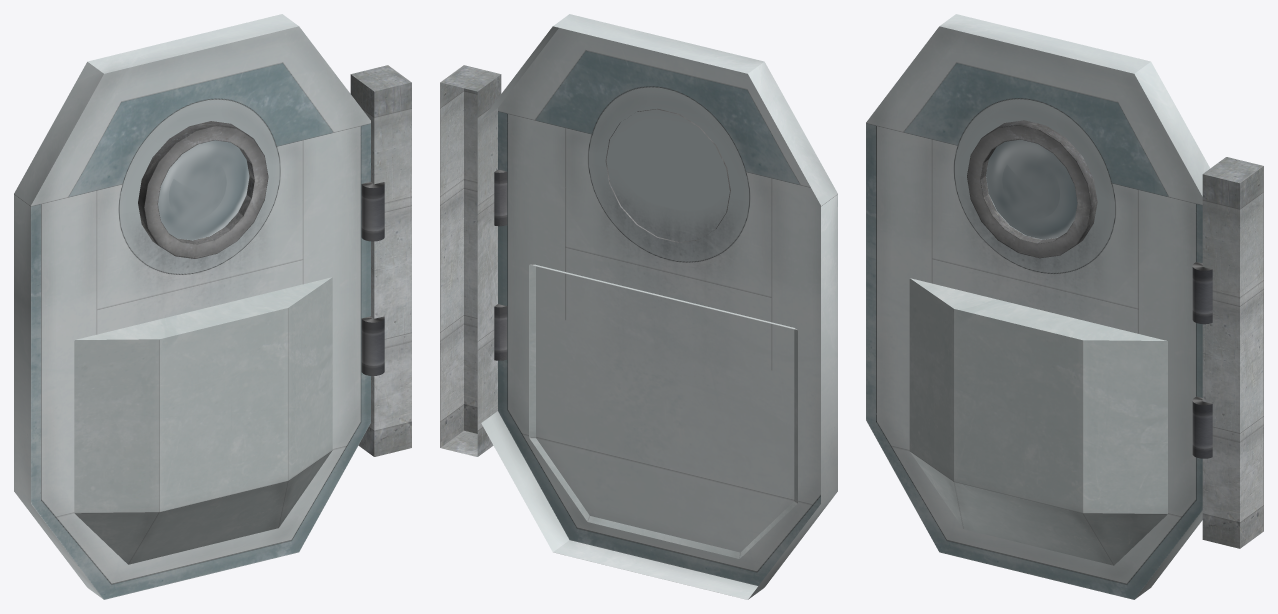
File: door.FBX
3 renders of one model, left to right at view 1: azimuth 30°, elevation 25°; view 2: azimuth 150°, elevation 25°; view 3: azimuth 330°, elevation 25°, orthographic.
Visible parts, largest first — view 1: door; view 2: door; view 3: door.
Boxes of the visible parts, box(x1,y1,x2,y2) form: door: box(14, 14, 411, 599); door: box(440, 14, 837, 599); door: box(866, 14, 1263, 599).
Size of the model in its own units: 57.44 by 76.52 by 10.73.
